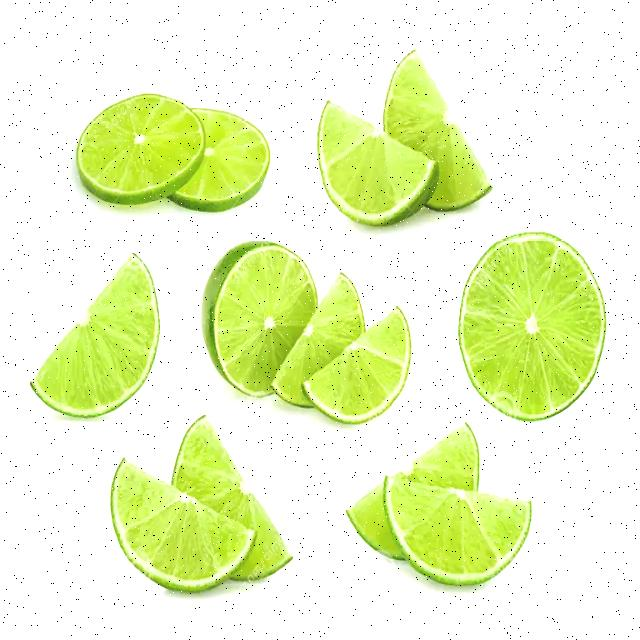Lime: (284, 14, 506, 217), (213, 238, 411, 433), (451, 215, 620, 442), (356, 419, 530, 627), (102, 427, 290, 608), (10, 246, 188, 436), (77, 63, 267, 229)
